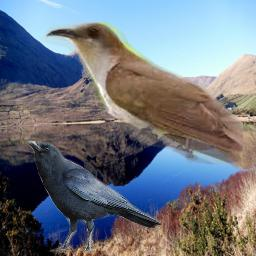Crow: (25, 140, 161, 254)
Cuckoo: (41, 22, 243, 171)
